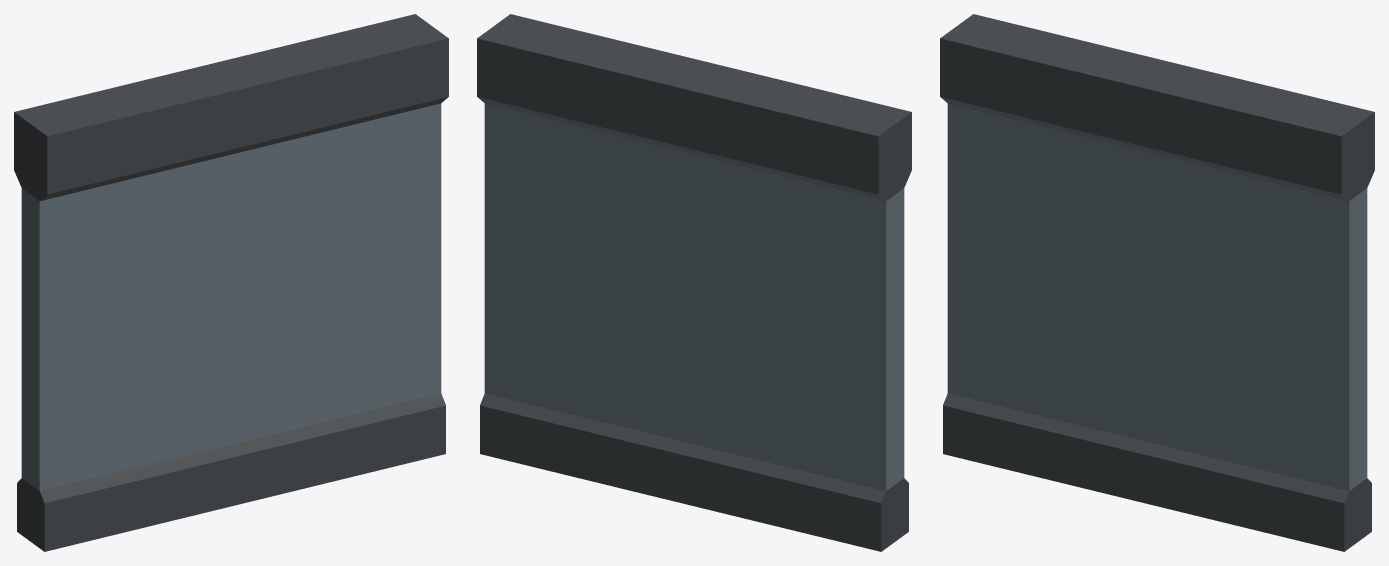
Rendered from wall_1_5.obj.
The picture shows the model from 3 angles, left to right: view 1: azimuth 30°, elevation 25°; view 2: azimuth 150°, elevation 25°; view 3: azimuth 330°, elevation 25°; orthographic projection.
Parts seen in each view (by area): view 1: wall_1_5; view 2: wall_1_5; view 3: wall_1_5.
Boxes of the visible parts, box(x1,y1,x2,y2) form: wall_1_5: box(14, 14, 448, 551); wall_1_5: box(477, 14, 911, 551); wall_1_5: box(940, 14, 1374, 551).
Size of the model in its own units: 1.54 by 1.53 by 0.2217.
